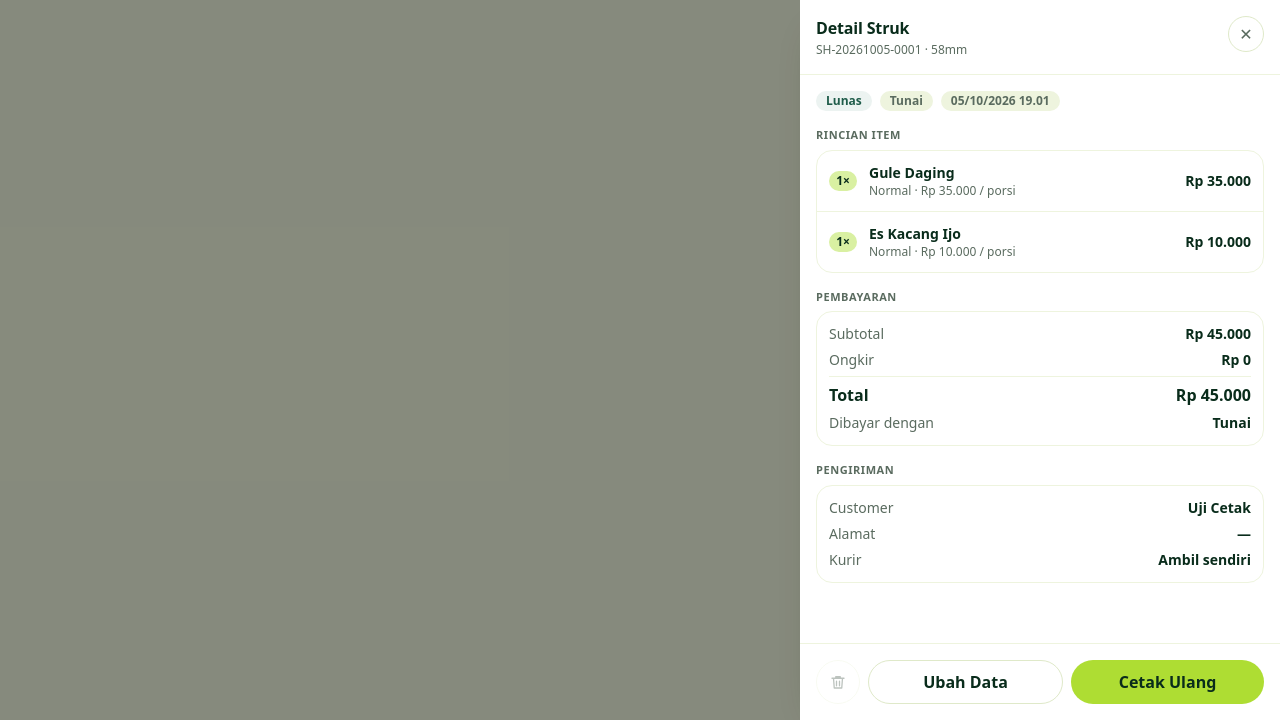
it: Ubah Data di drawer struk › memberi tahu baris mana yang akan hilang karena qty 0
The width and height of the screenshot is (1280, 720).
Click the button "Ubah Data" at (966, 682), box [868,660,1063,704]
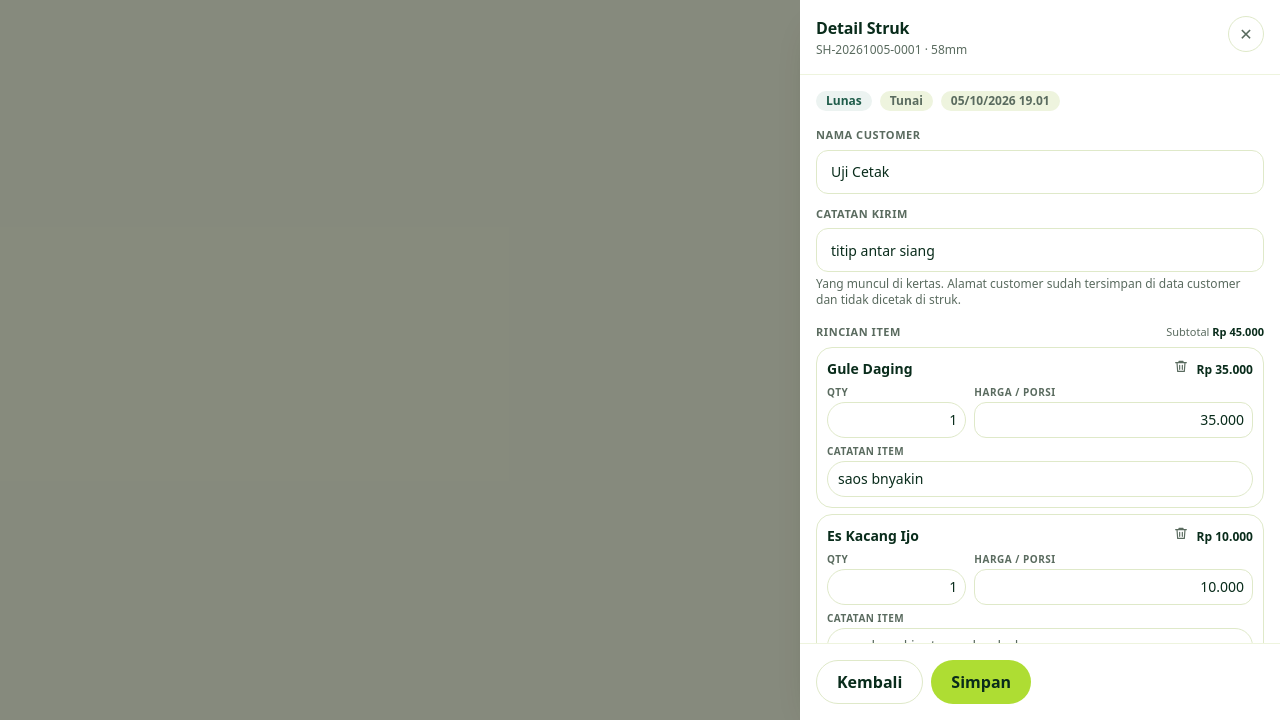
expect the field labelled "Catatan Kirim" is shown: met, box [816,228,1264,272]
Replace the text in the number field named "Qty Es Kacang Ijo" with "0" at (897, 586), box [827,568,966,604]
(page scrolled)
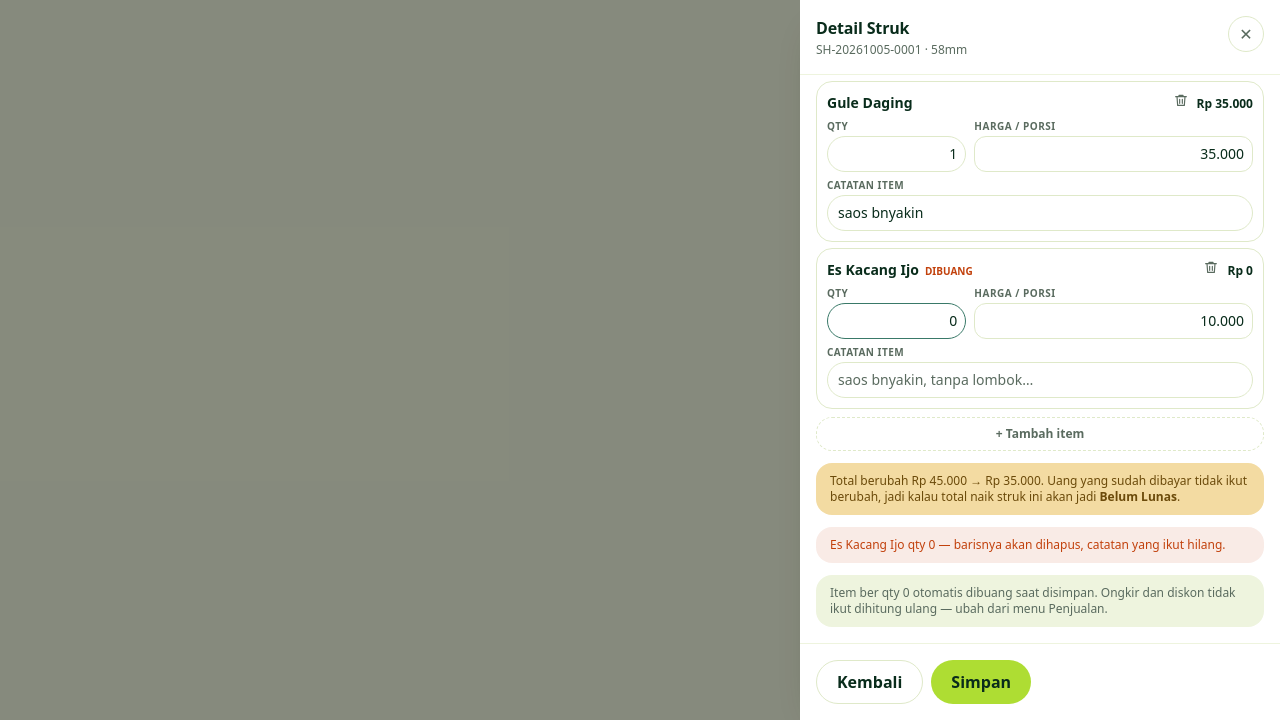
expect the text "catatan yang ikut hilang" is shown: met, box [830,536,1226,552]
